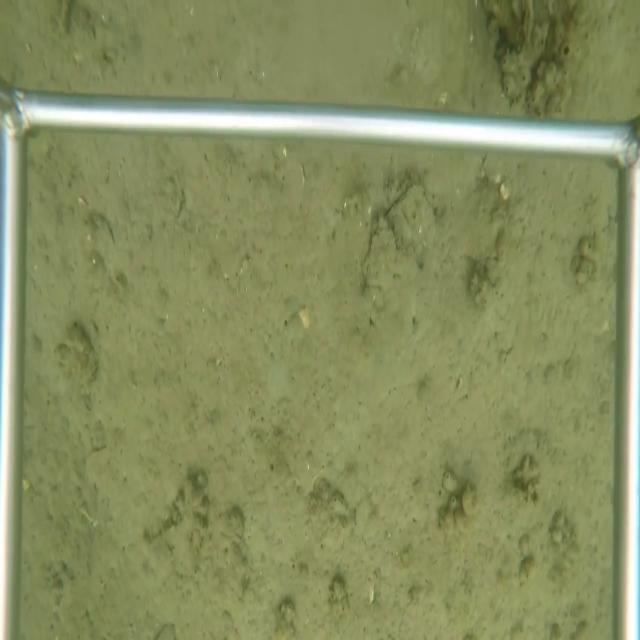Oyster-Indeterminate: (361, 183, 441, 324)
